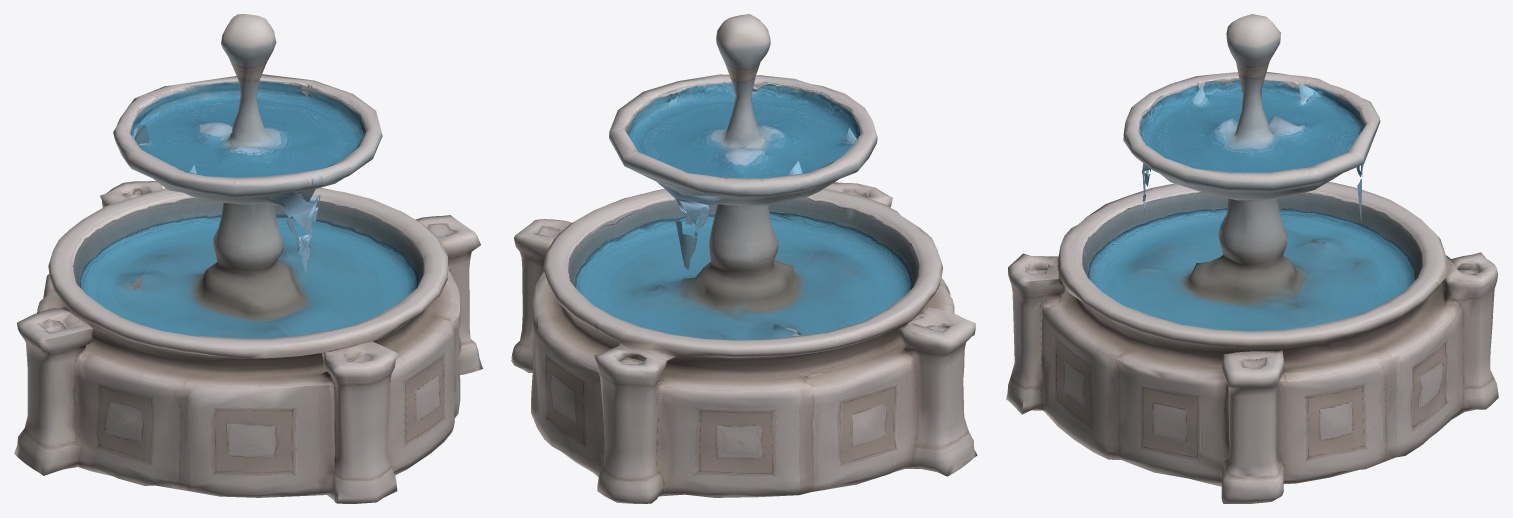
The model's file is fountain.glb.
3 views of the same model, side by side, from view 1: azimuth 30°, elevation 25°; view 2: azimuth 150°, elevation 25°; view 3: azimuth 270°, elevation 25° (orthographic). The views are drawn at different scales.
Visible parts, largest first — view 1: tripo_node_89a7560a-1479-4c33-8450-eeda50c9b2ea; view 2: tripo_node_89a7560a-1479-4c33-8450-eeda50c9b2ea; view 3: tripo_node_89a7560a-1479-4c33-8450-eeda50c9b2ea.
Boxes of the visible parts, <box> form: tripo_node_89a7560a-1479-4c33-8450-eeda50c9b2ea: <box>14,14,482,503</box>; tripo_node_89a7560a-1479-4c33-8450-eeda50c9b2ea: <box>511,14,977,503</box>; tripo_node_89a7560a-1479-4c33-8450-eeda50c9b2ea: <box>1006,14,1498,503</box>.
Size of the model in its own units: 0.9982 by 0.8498 by 0.9935.
1 material, 1 textured.
